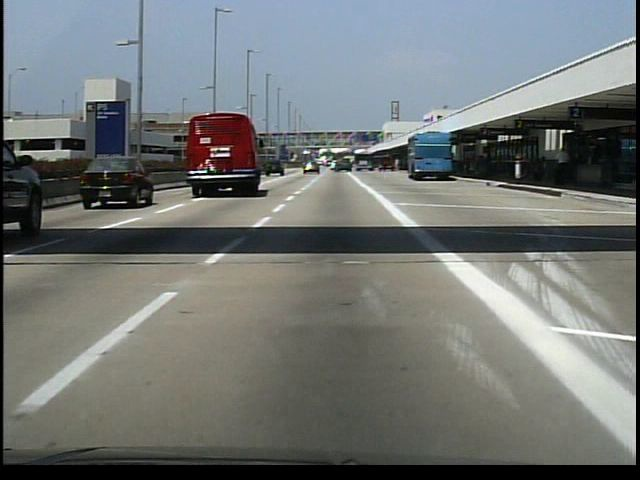person: (555, 145, 572, 187)
